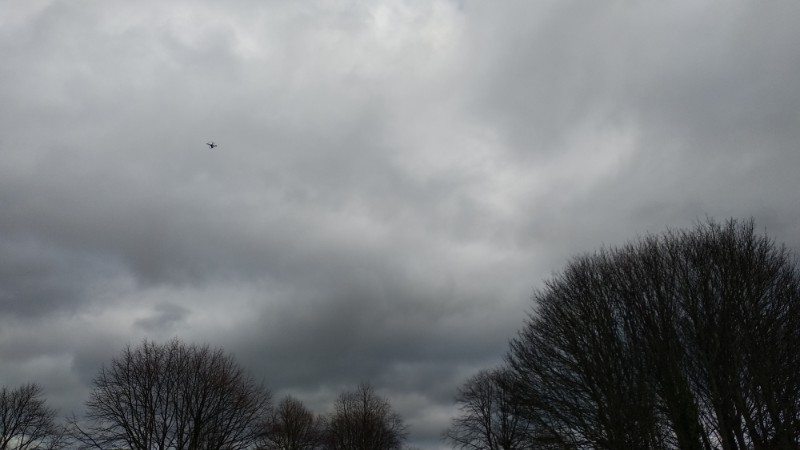drone: (206, 141, 219, 150)
